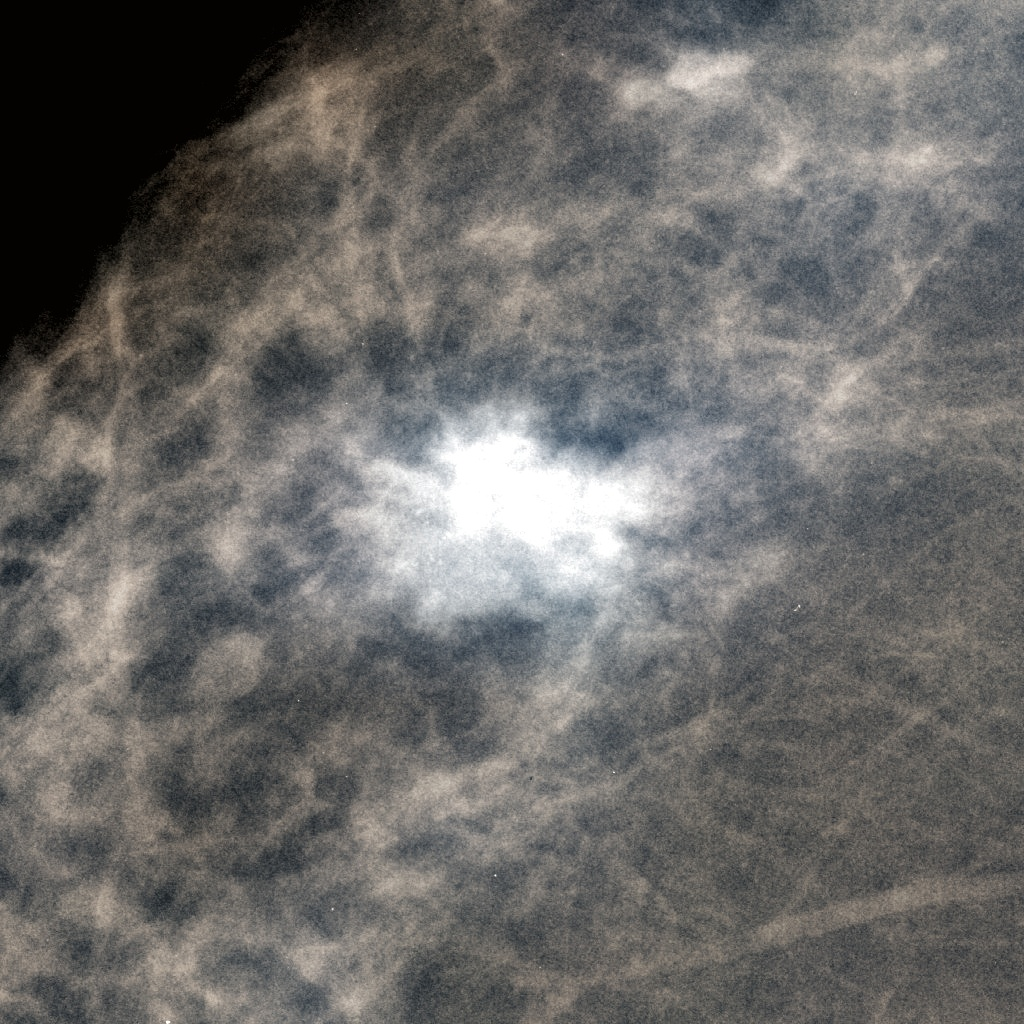tumor: (333, 384, 691, 640)
